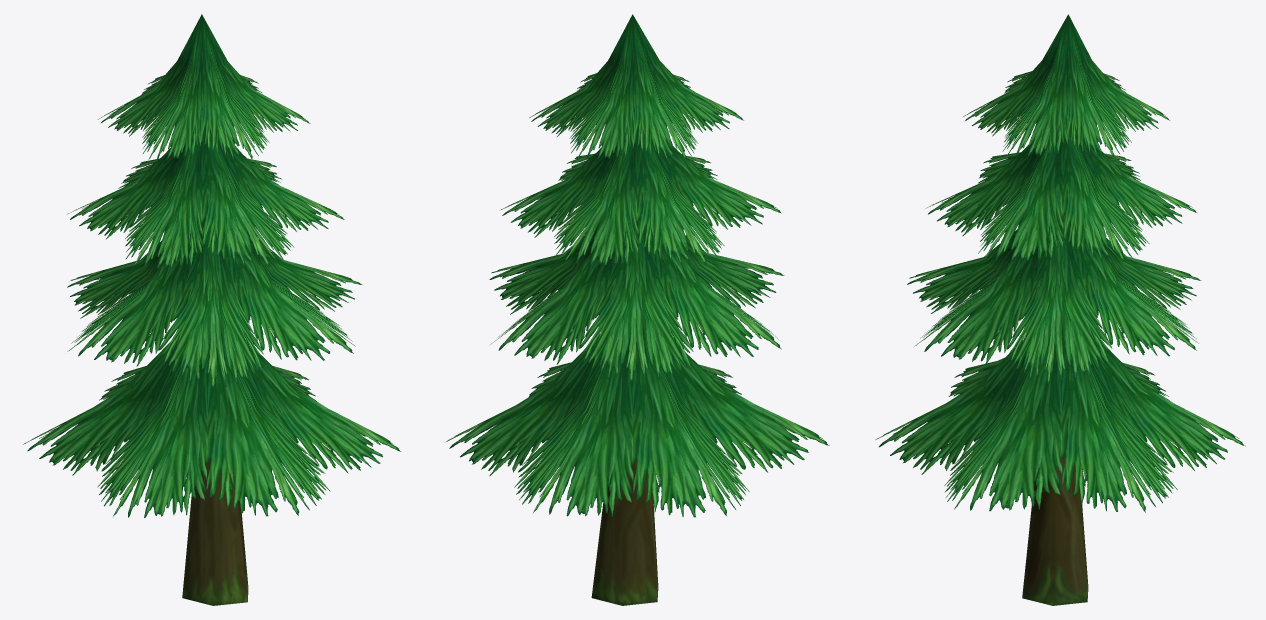
File: Stage_CaoYuan_ShuMu02.FBX
The picture shows the model from 3 angles, left to right: view 1: azimuth 30°, elevation 25°; view 2: azimuth 150°, elevation 25°; view 3: azimuth 270°, elevation 25°; orthographic projection.
Parts seen in each view (by area): view 1: Stage_CaoYuan_ShuMu02; view 2: Stage_CaoYuan_ShuMu02; view 3: Stage_CaoYuan_ShuMu02.
Boxes of the visible parts, x1,y1,x2,y2 form: Stage_CaoYuan_ShuMu02: (23, 14, 401, 605); Stage_CaoYuan_ShuMu02: (446, 14, 829, 605); Stage_CaoYuan_ShuMu02: (875, 14, 1245, 605).
Bounding box in the file's own units: 284 × 516 × 315.
